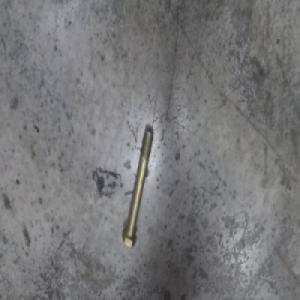Bolt: (121, 128, 155, 247)
